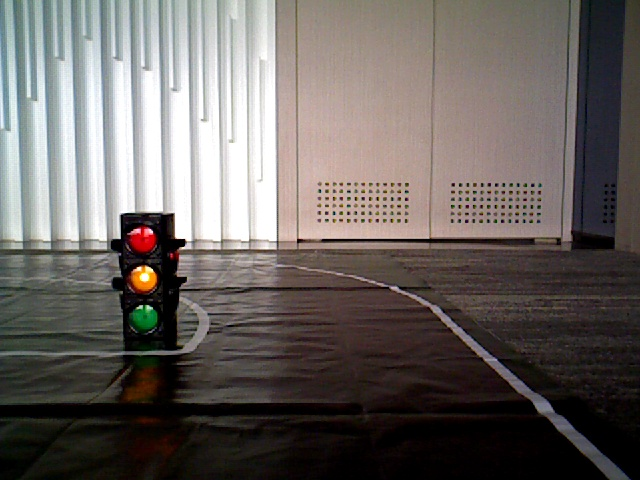yellow: (120, 222, 168, 337)
